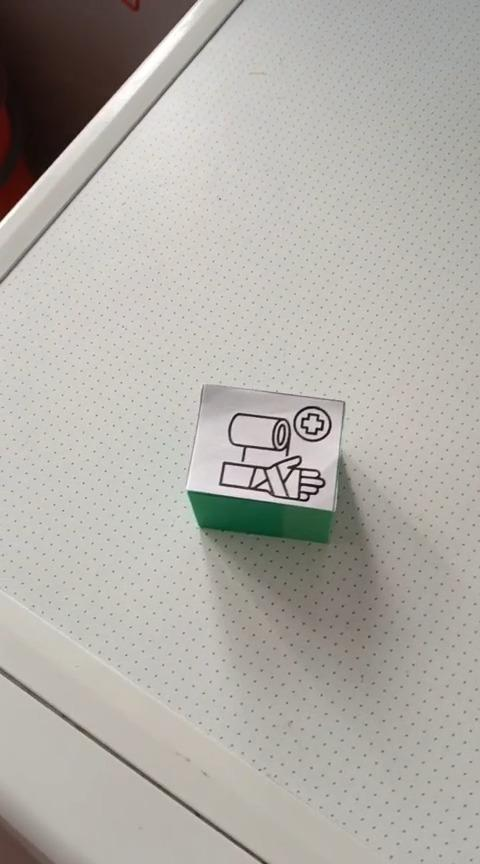Bandages: (184, 382, 345, 543)
